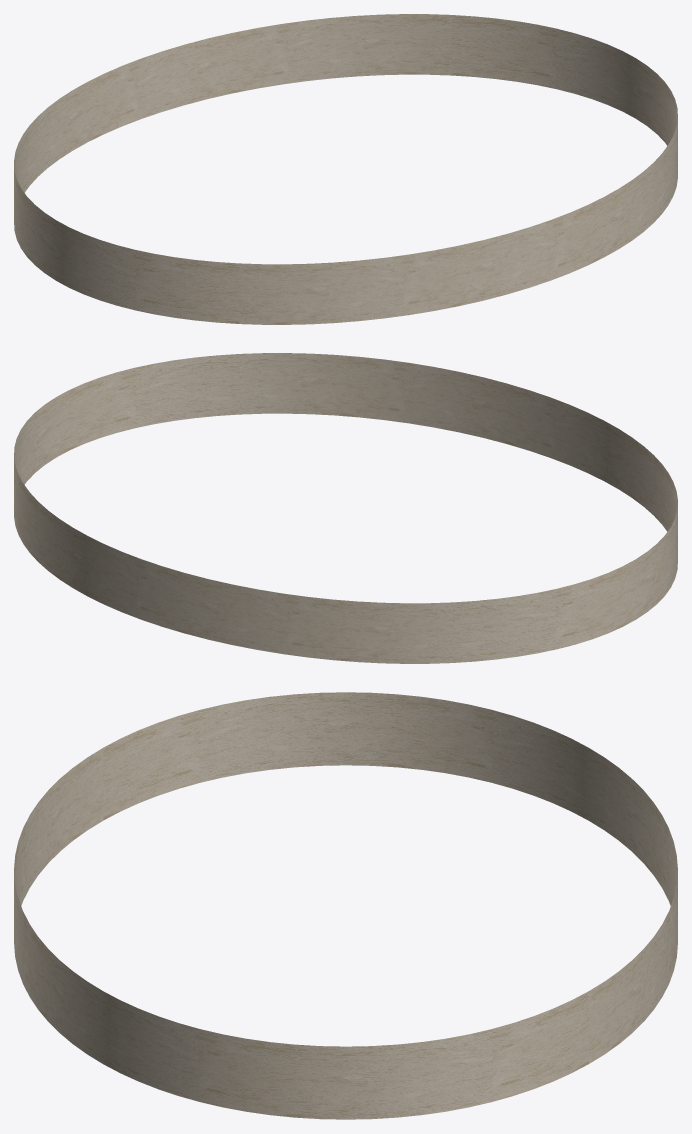
File: muro_interno.FBX
3 views of the same model, one above another, from view 1: azimuth 30°, elevation 25°; view 2: azimuth 150°, elevation 25°; view 3: azimuth 270°, elevation 25° (orthographic). The views are drawn at different scales.
Visible parts, largest first — view 1: chiusura_int; view 2: chiusura_int; view 3: chiusura_int.
Boxes of the visible parts, box(x1,y1,x2,y2) form: chiusura_int: box(14, 14, 677, 324); chiusura_int: box(14, 353, 677, 663); chiusura_int: box(14, 692, 677, 1119).
Size of the model in its own units: 73.54 by 58.24 by 7.07.
1 material, 1 textured.
